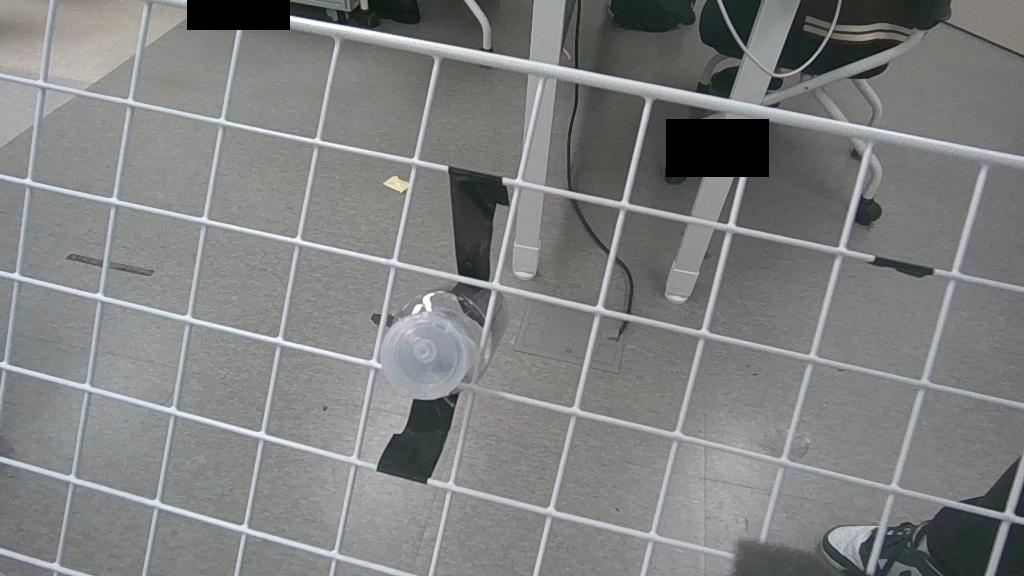Cap: (377, 314, 466, 398)
